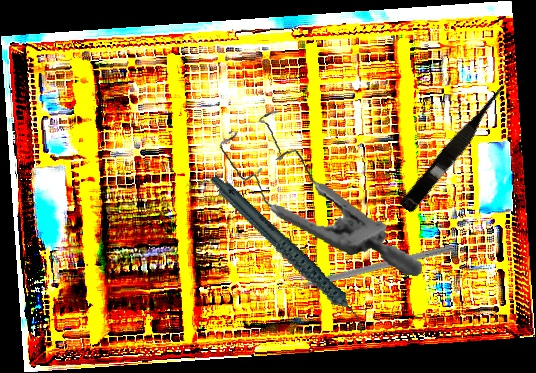Chopper: (277, 234, 455, 295)
Handpiece: (209, 150, 369, 358)
Micro Scissor: (398, 78, 516, 217)
Speculum: (205, 104, 440, 277)
